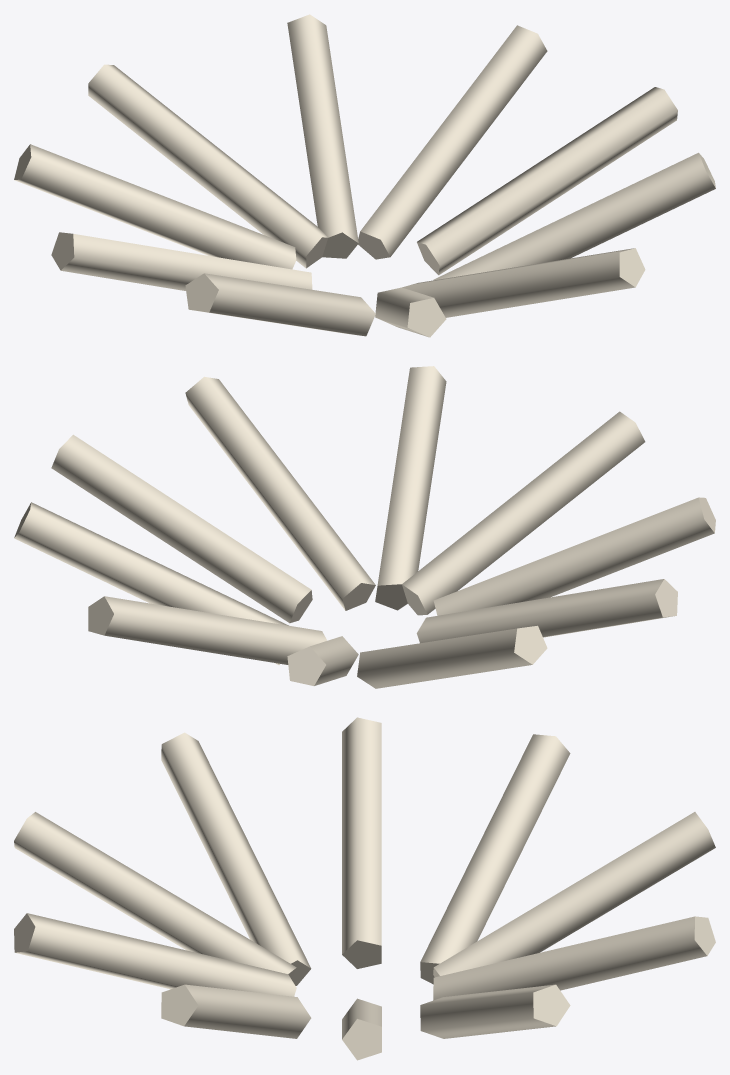
The model's file is dino_nest.glb.
3 renders of one model, top to bottom at view 1: azimuth 30°, elevation 25°; view 2: azimuth 150°, elevation 25°; view 3: azimuth 270°, elevation 25°, orthographic. The views are drawn at different scales.
Parts seen in each view (by area): view 1: dino_nest; view 2: dino_nest; view 3: dino_nest.
Boxes of the visible parts, box(x1,y1,x2,y2) form: dino_nest: box(14, 14, 715, 337); dino_nest: box(14, 366, 715, 688); dino_nest: box(14, 717, 715, 1060).
Size of the model in its own units: 1.69 by 0.3903 by 1.59.
